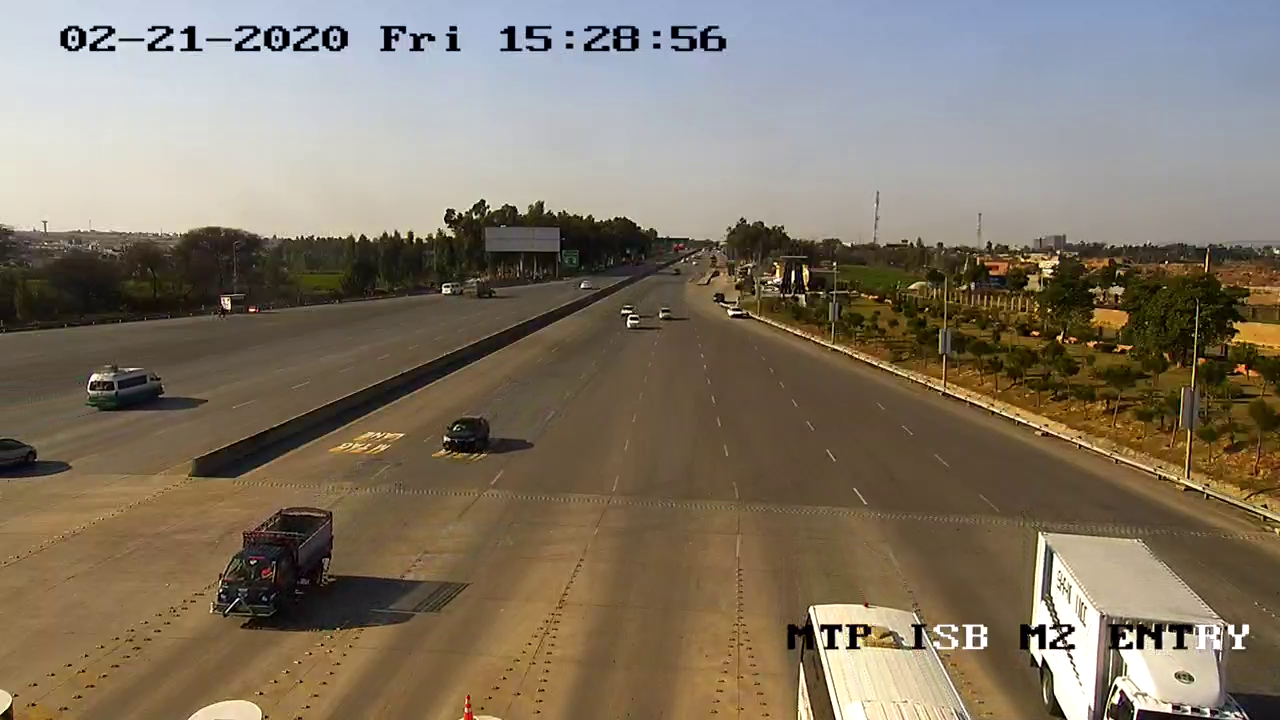f3: (200, 494, 349, 634)
